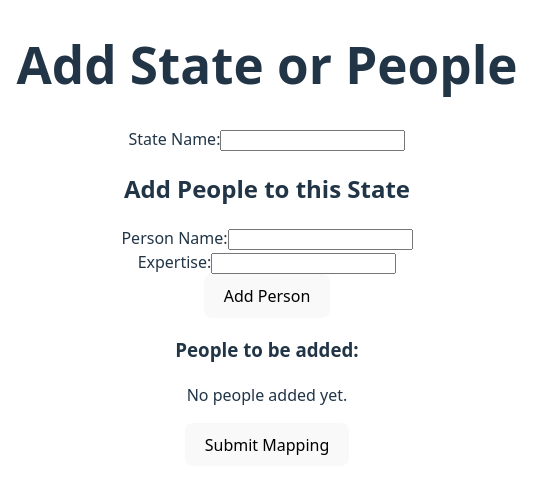
Test: Add › shows error when trying to add person with empty fields
The width and height of the screenshot is (533, 494).
What coordinates should you click on to do the following:
click the button "Add Person"
I would click on:
 (267, 296)
Its box is top-left (204, 274), bottom-right (330, 318).
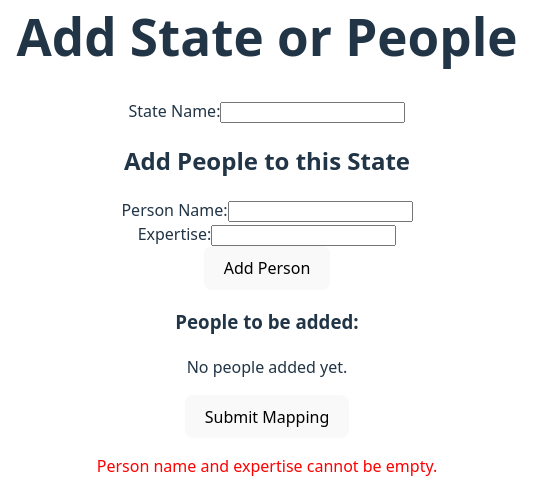
Expected: the text "No people added yet." is shown, top-left (187, 356), bottom-right (347, 378)
Now the text "Person name and expertise cannot be empty." is shown, box top-left (97, 455), bottom-right (437, 477)
